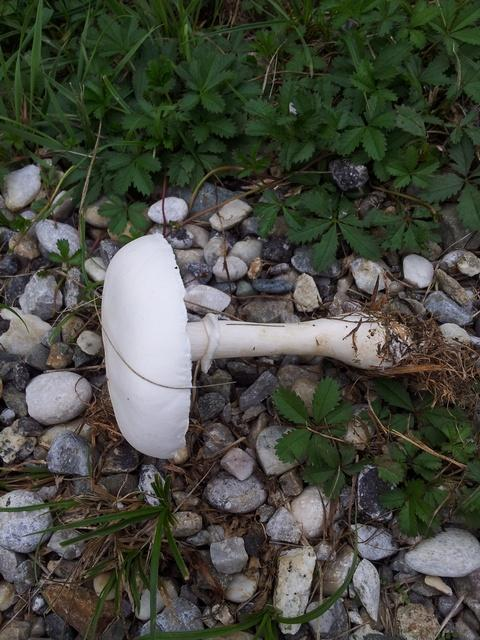Non-edible Mushroom: (98, 231, 416, 459)
